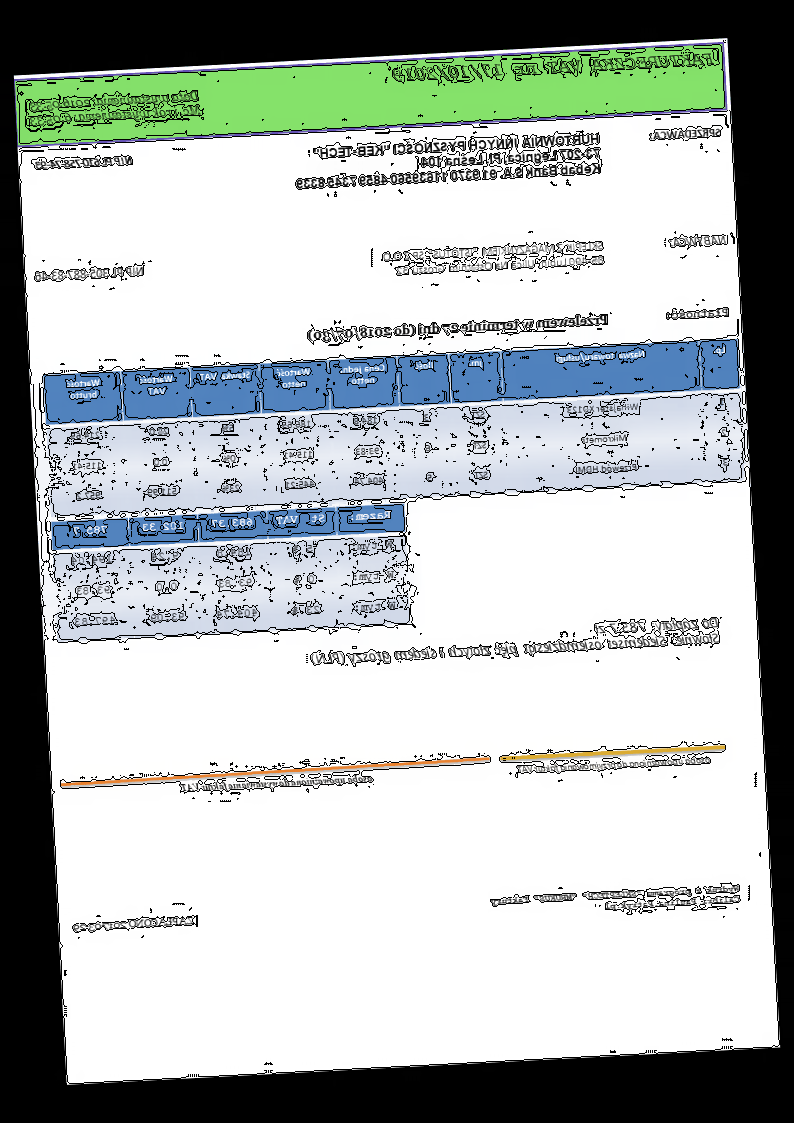Table: (42, 336, 747, 519), (49, 502, 413, 644)
TextBox: (308, 613, 723, 667), (291, 129, 604, 193), (391, 49, 717, 86), (307, 310, 611, 343), (378, 237, 607, 280), (487, 882, 742, 919), (27, 87, 204, 130), (514, 753, 712, 778), (179, 770, 375, 795), (72, 913, 197, 935), (33, 262, 148, 284), (32, 152, 135, 173), (647, 124, 724, 142), (664, 304, 732, 322), (668, 231, 728, 248)
